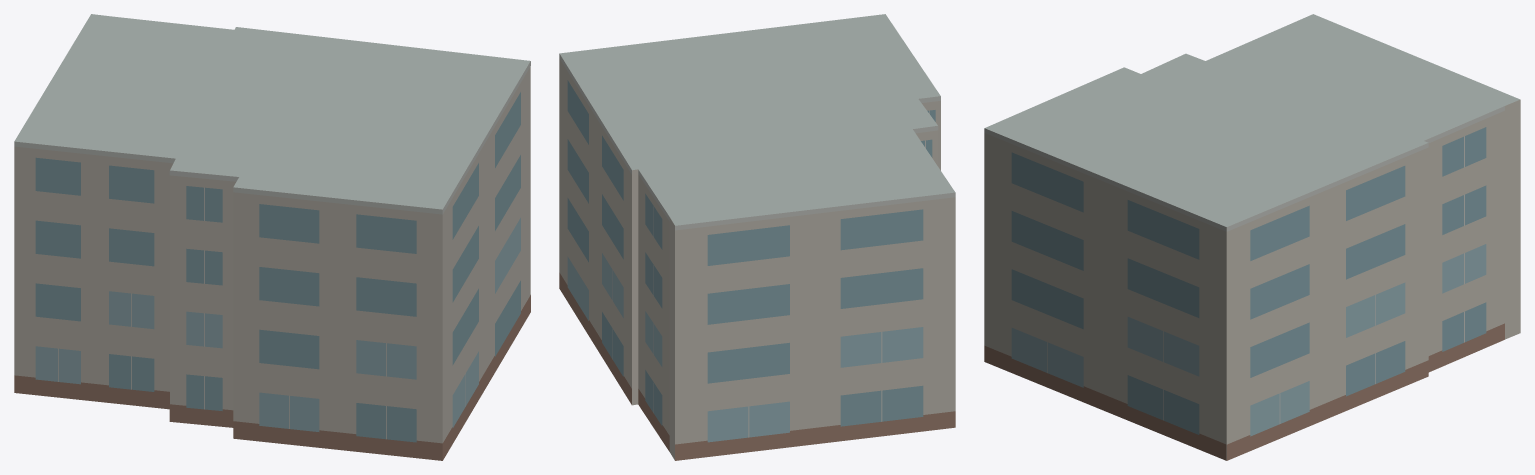
File: survey-upis-32957896.glb
3 views of the same model, side by side, from view 1: azimuth 30°, elevation 25°; view 2: azimuth 150°, elevation 25°; view 3: azimuth 270°, elevation 25° (orthographic). The views are drawn at different scales.
Visible parts, largest first — view 1: survey-upis-32957896.tmp; view 2: survey-upis-32957896.tmp; view 3: survey-upis-32957896.tmp.
Part boxes in pixels (left/top/right/bottom): survey-upis-32957896.tmp: left=14, top=14, right=530, bottom=460; survey-upis-32957896.tmp: left=559, top=14, right=955, bottom=460; survey-upis-32957896.tmp: left=984, top=14, right=1520, bottom=460.
Bounding box in the file's own units: 24.08 × 12.3 × 25.58.
